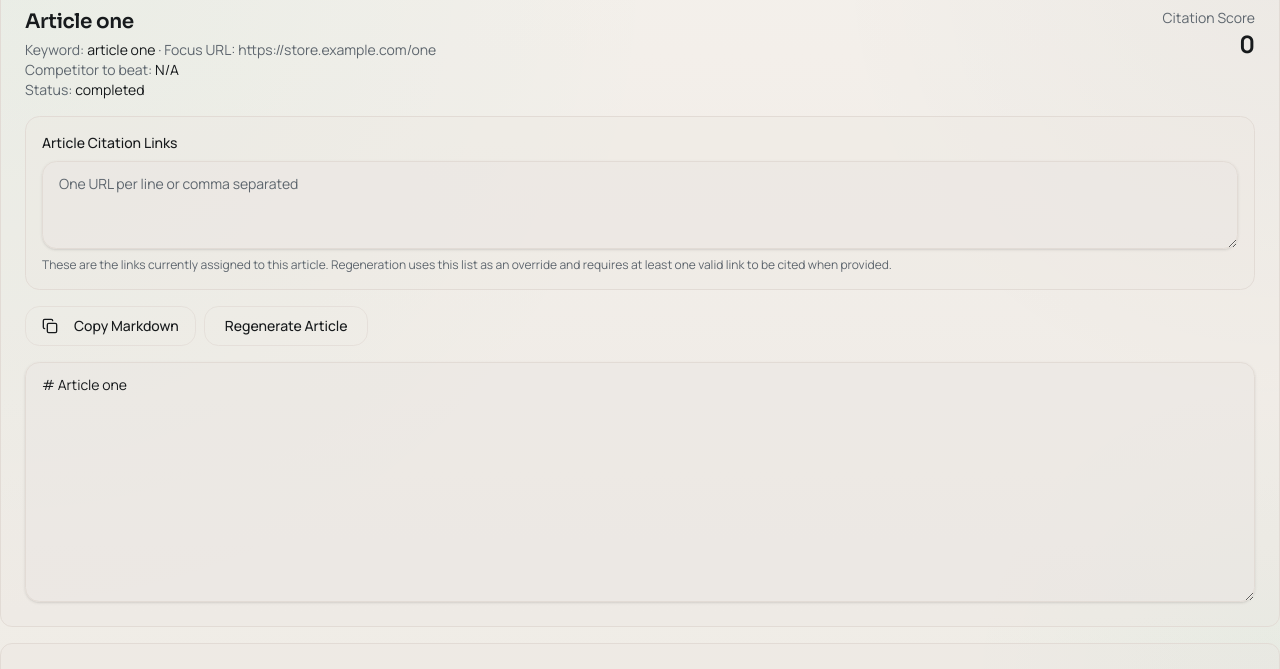
Scenario: ArticleEngine component › blocks concurrent regenerations and restarts transport for non-terminal results
This screenshot has width=1280, height=669.
Later steps or results of the test are not shown.
(page scrolled)
Step 1. Click the button "Regenerate Article" → (286, 326), box [204, 306, 368, 346]
(page scrolled)
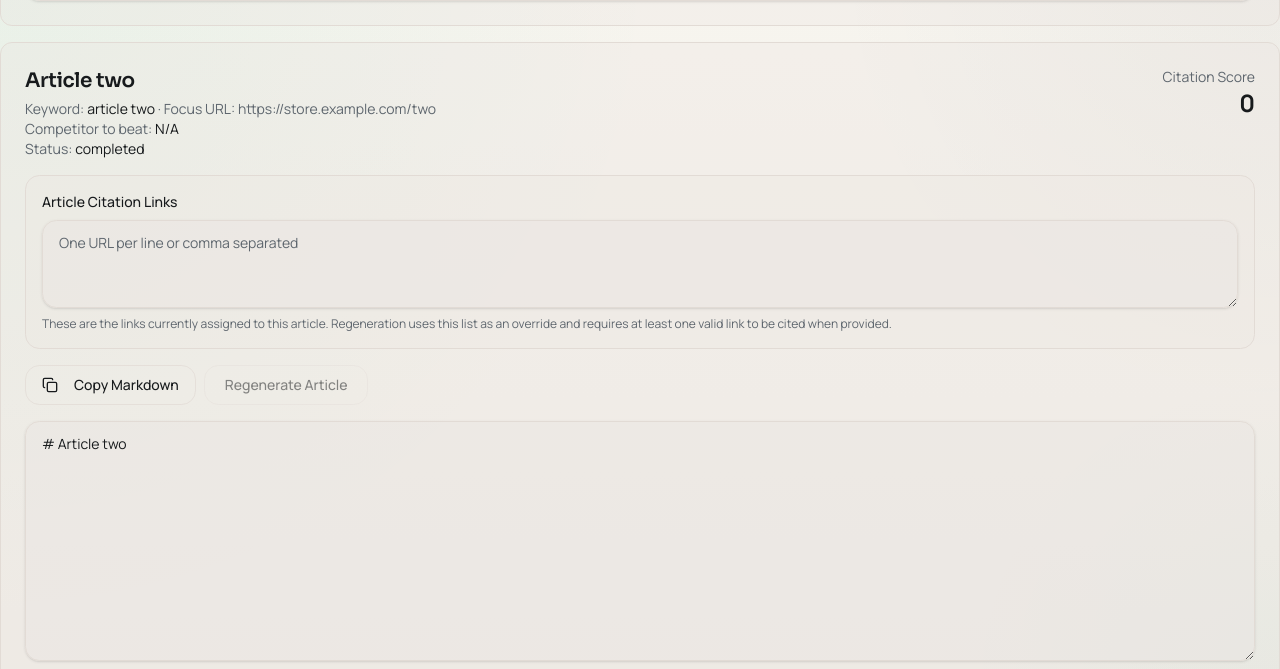
Now the button "Regenerate Article" is disabled, box [204, 365, 368, 405]
